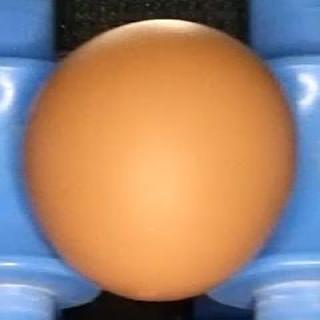Telur: (16, 18, 302, 303)
